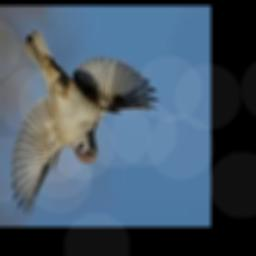Sparrow: (12, 29, 159, 215)
